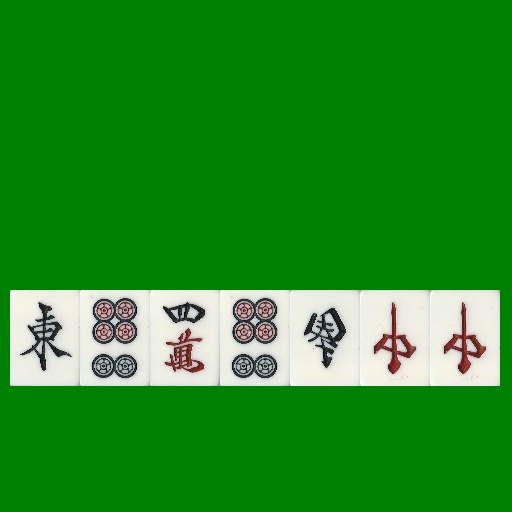4m: (150, 290, 220, 386)
6p: (80, 290, 150, 386), (220, 290, 290, 386)
east: (10, 290, 80, 386)
south: (290, 290, 360, 386)
tyun: (360, 290, 430, 386), (430, 290, 500, 386)
